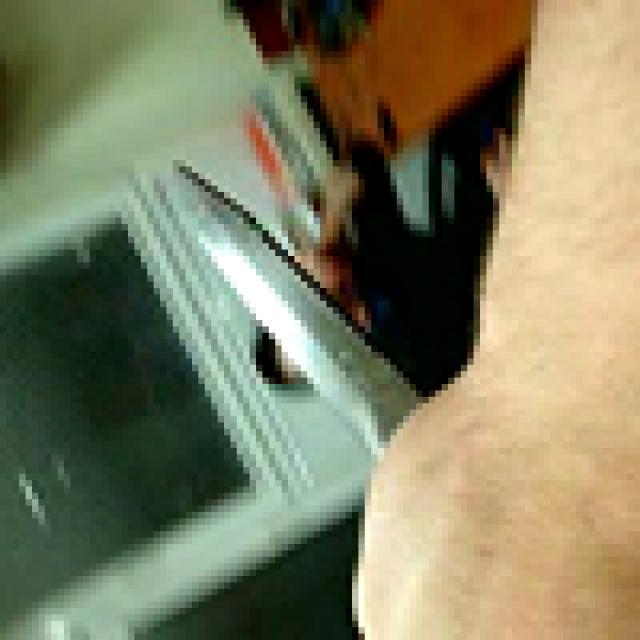Knife: (148, 141, 422, 461)
